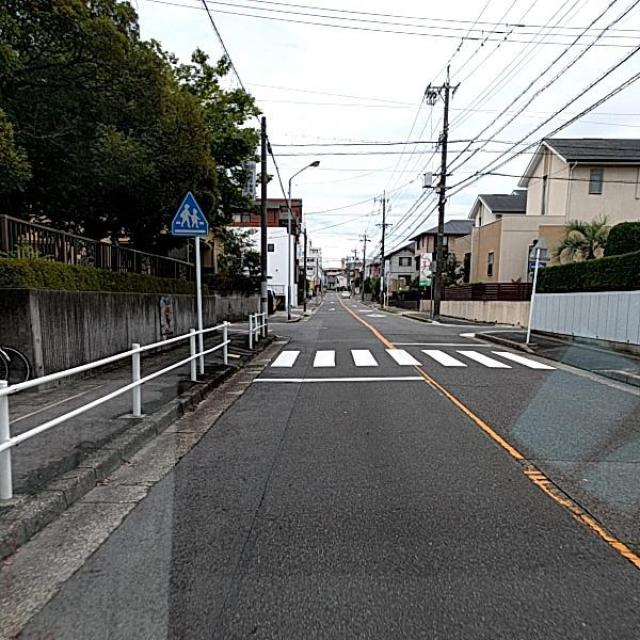Crack: (392, 367, 624, 550)
